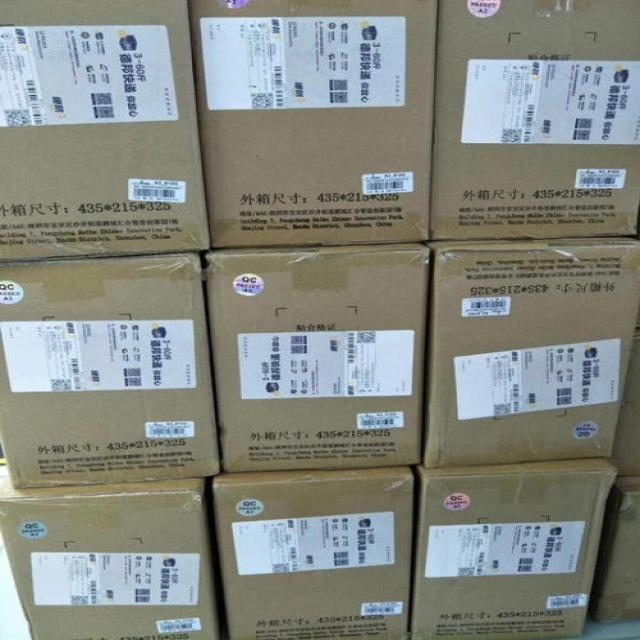box: (189, 0, 439, 249), (0, 0, 212, 261), (0, 253, 220, 487), (206, 244, 430, 472), (421, 237, 640, 466), (433, 0, 640, 240), (0, 471, 216, 640), (412, 461, 618, 638), (218, 467, 413, 640), (598, 477, 640, 626), (616, 326, 640, 477)
